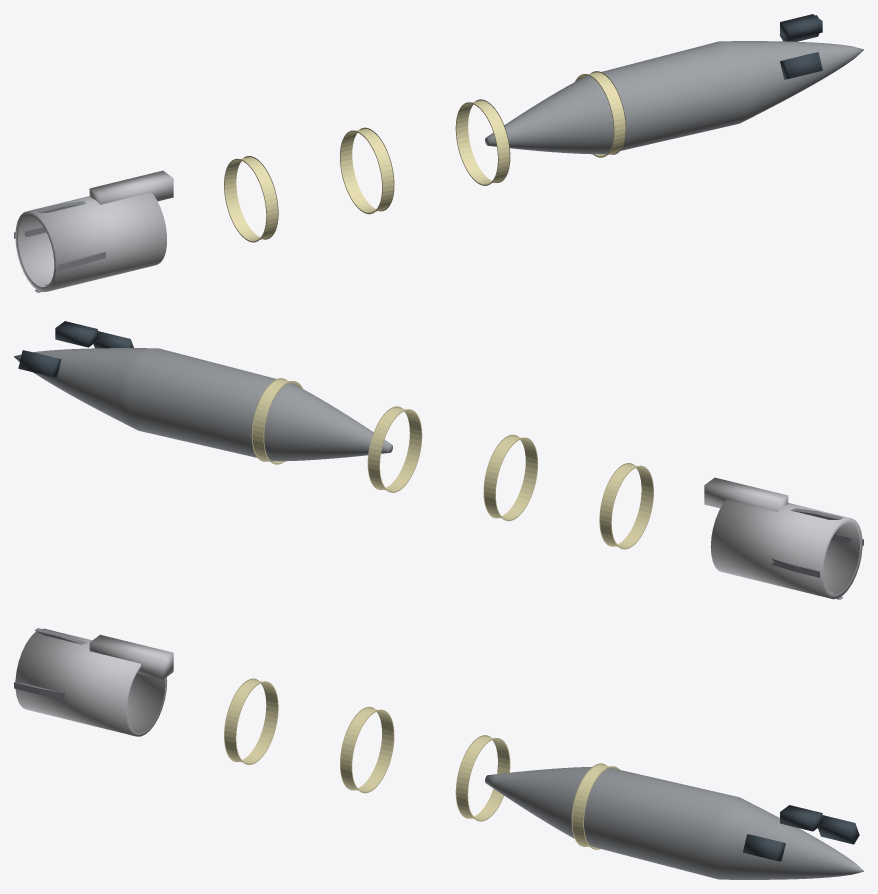
File: FR_TORP_F21_LOD0.fbx
The picture shows the model from 3 angles, top to bottom: view 1: azimuth 30°, elevation 25°; view 2: azimuth 150°, elevation 25°; view 3: azimuth 330°, elevation 25°; orthographic projection.
Parts seen in each view (by area): view 1: WPN_FR_TORP_F21_LOD0_Body, WPN_FR_TORP_F21_LOD0_Propulsor, WPN_FR_TORP_F21_LOD0_Marking, WPN_FR_TORP_F21_LOD0_Seeker, WPN_FR_TORP_F21_LOD0_Detail, WPN_FR_TORP_F21_LOD0_Fins; view 2: WPN_FR_TORP_F21_LOD0_Body, WPN_FR_TORP_F21_LOD0_Propulsor, WPN_FR_TORP_F21_LOD0_Marking, WPN_FR_TORP_F21_LOD0_Seeker, WPN_FR_TORP_F21_LOD0_Detail, WPN_FR_TORP_F21_LOD0_Fins; view 3: WPN_FR_TORP_F21_LOD0_Body, WPN_FR_TORP_F21_LOD0_Propulsor, WPN_FR_TORP_F21_LOD0_Marking, WPN_FR_TORP_F21_LOD0_Seeker, WPN_FR_TORP_F21_LOD0_Detail, WPN_FR_TORP_F21_LOD0_Fins.
Part boxes in pixels (box(x1,y1,x2,y2)): WPN_FR_TORP_F21_LOD0_Body: box(485, 41, 863, 154); WPN_FR_TORP_F21_LOD0_Propulsor: box(15, 192, 166, 292); WPN_FR_TORP_F21_LOD0_Marking: box(224, 71, 626, 242); WPN_FR_TORP_F21_LOD0_Seeker: box(779, 14, 822, 79); WPN_FR_TORP_F21_LOD0_Detail: box(89, 170, 173, 204); WPN_FR_TORP_F21_LOD0_Fins: box(14, 201, 105, 292); WPN_FR_TORP_F21_LOD0_Body: box(14, 348, 392, 461); WPN_FR_TORP_F21_LOD0_Propulsor: box(710, 499, 862, 599); WPN_FR_TORP_F21_LOD0_Marking: box(251, 378, 653, 549); WPN_FR_TORP_F21_LOD0_Seeker: box(18, 321, 133, 377); WPN_FR_TORP_F21_LOD0_Detail: box(704, 477, 788, 511); WPN_FR_TORP_F21_LOD0_Fins: box(771, 508, 863, 599); WPN_FR_TORP_F21_LOD0_Body: box(485, 767, 863, 879); WPN_FR_TORP_F21_LOD0_Propulsor: box(15, 628, 167, 736); WPN_FR_TORP_F21_LOD0_Marking: box(224, 678, 619, 849); WPN_FR_TORP_F21_LOD0_Seeker: box(743, 805, 859, 861); WPN_FR_TORP_F21_LOD0_Detail: box(89, 634, 173, 679); WPN_FR_TORP_F21_LOD0_Fins: box(14, 628, 87, 699).
Size of the model in its own units: 6 by 0.5911 by 0.5888.
